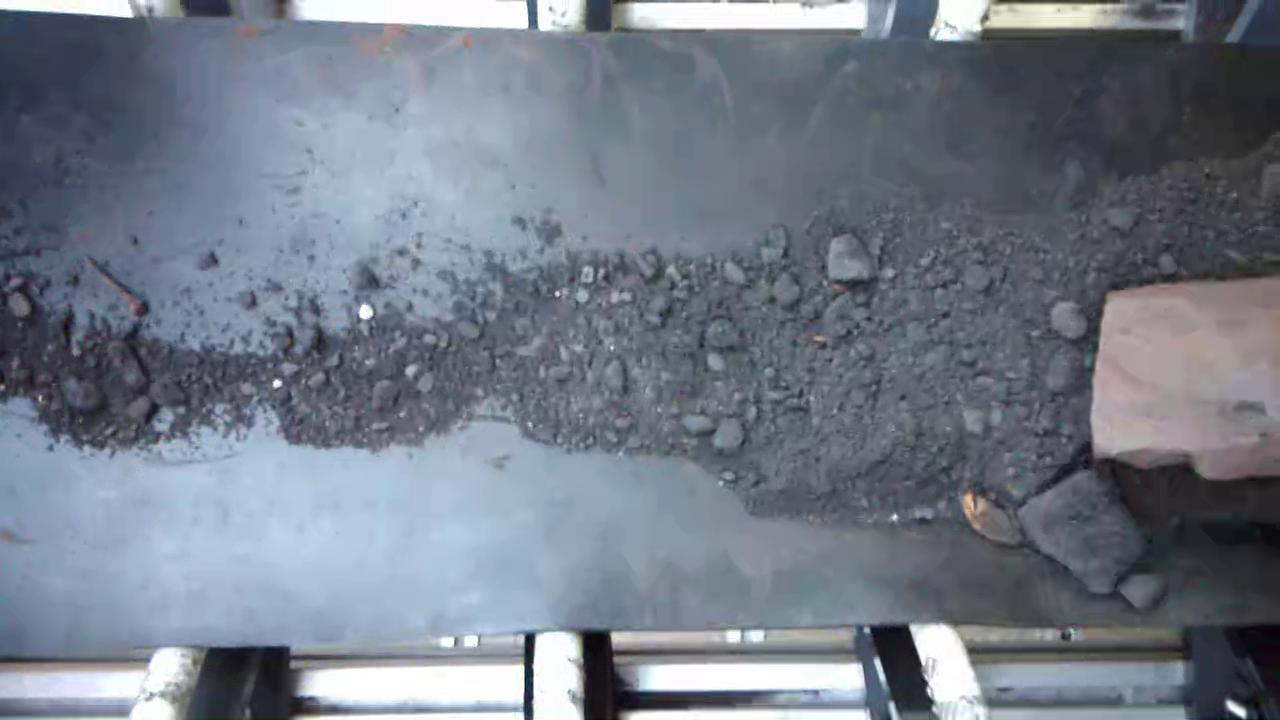conveyor: (0, 33, 1280, 622)
